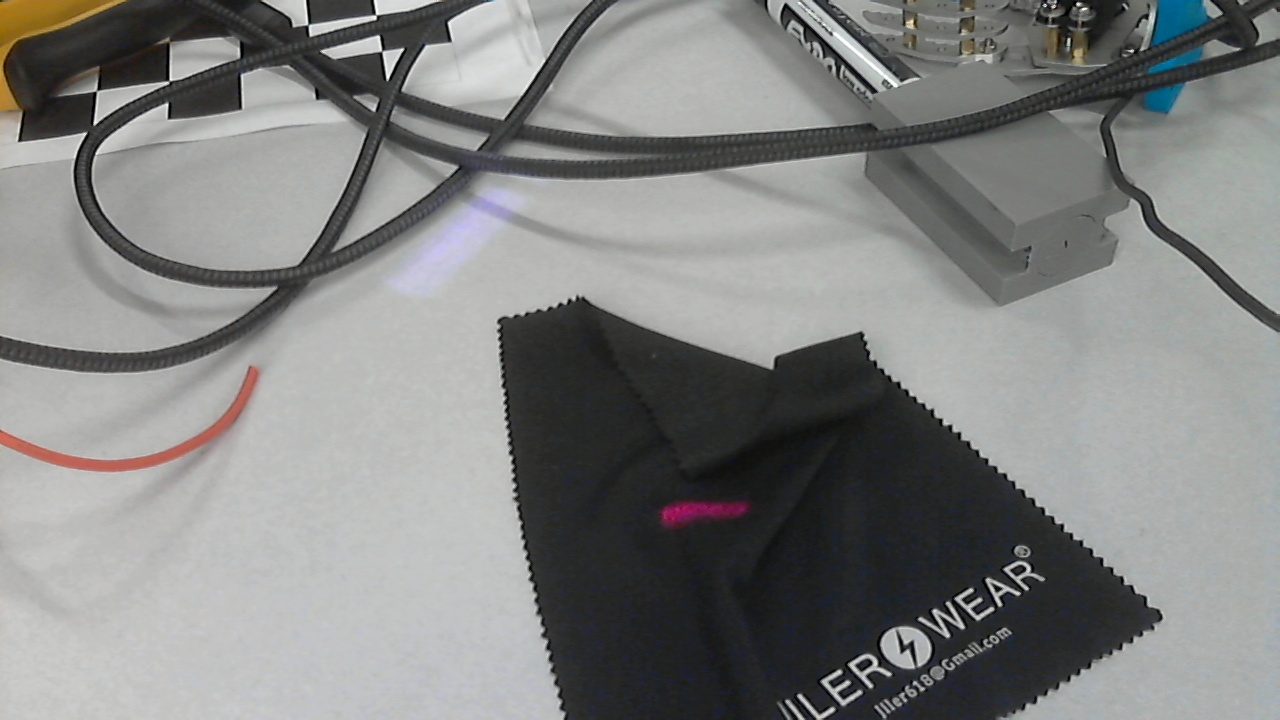Object microfiber cleaning cloth - Material fabric - Color black - Pdfname drQGv: (629, 484, 759, 535)
